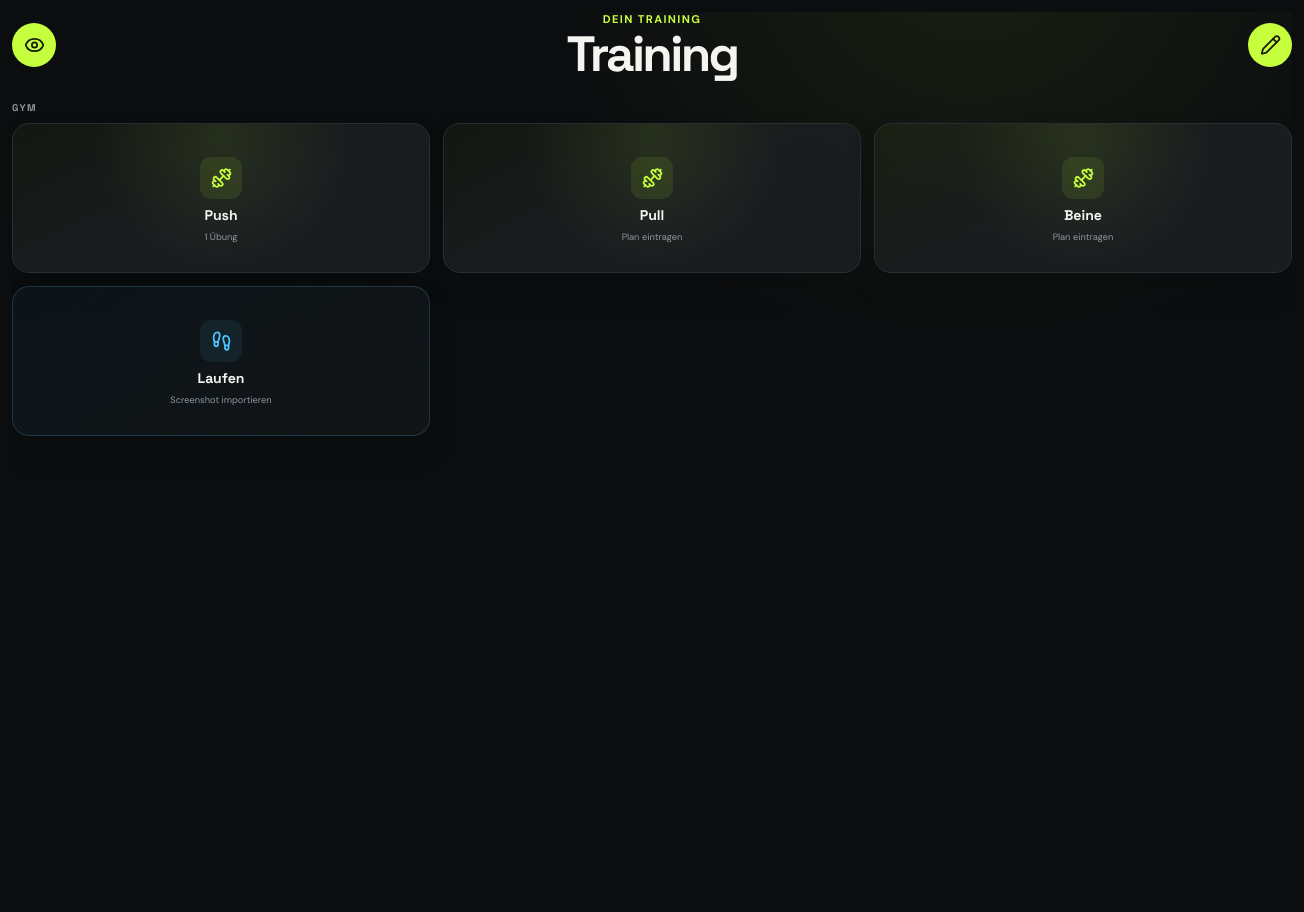
Test: GYM-Workflow › gliedert Läufe im gemeinsamen Verlauf nach Jahr, Monat und KW und klappt Details auf
Click the button named "Trainingsverlauf öffnen" at (34, 45), box x1=12 y1=23 x2=56 y2=67
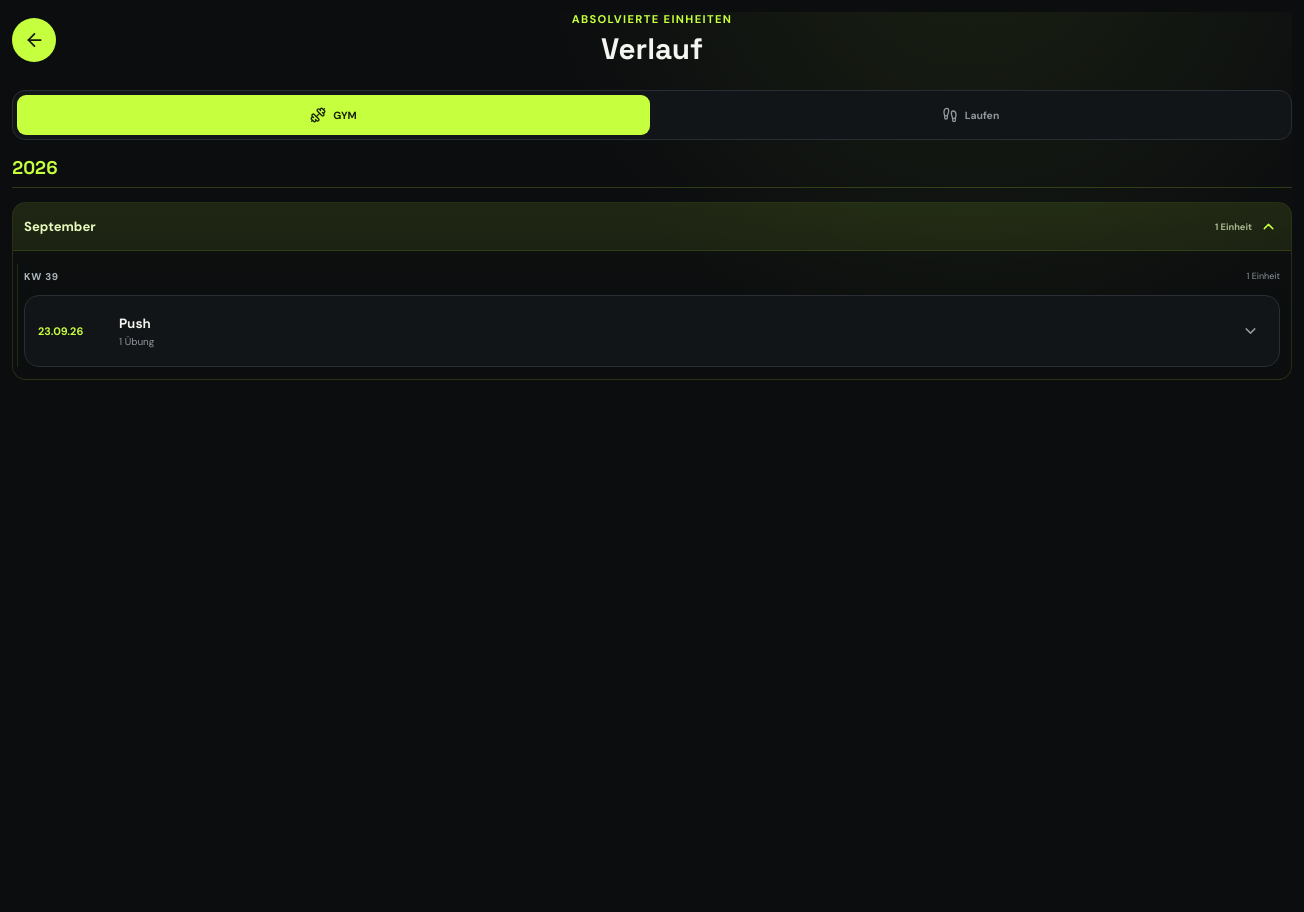
Click the button "Laufen" at (970, 115), box x1=654 y1=95 x2=1287 y2=135
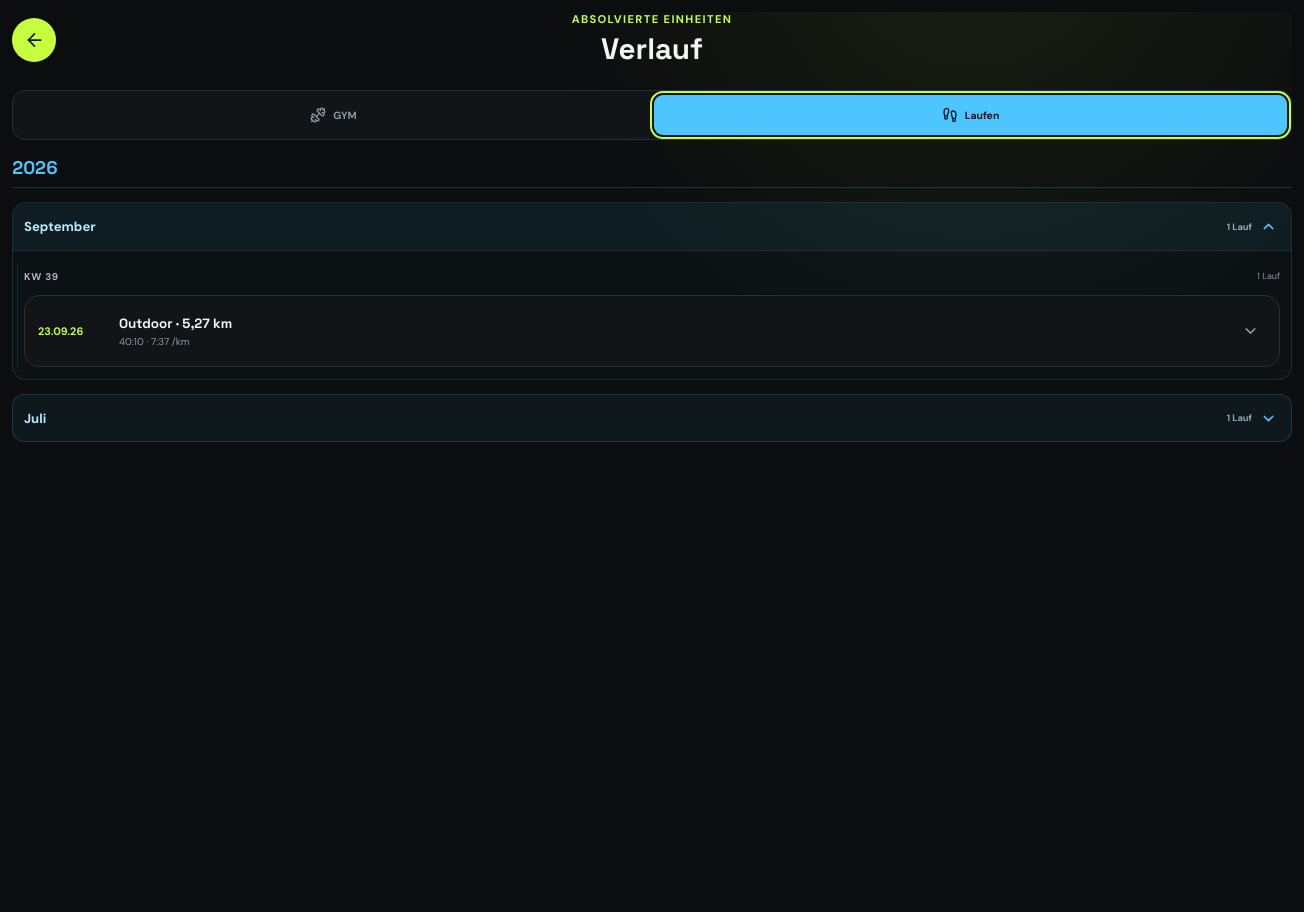
Expected: the button "Push" is gone
Click the button "23.09.26 Outdoor · 5,27 km 40:10 · 7:37 /km" at (61, 331), box x1=25 y1=296 x2=1279 y2=366
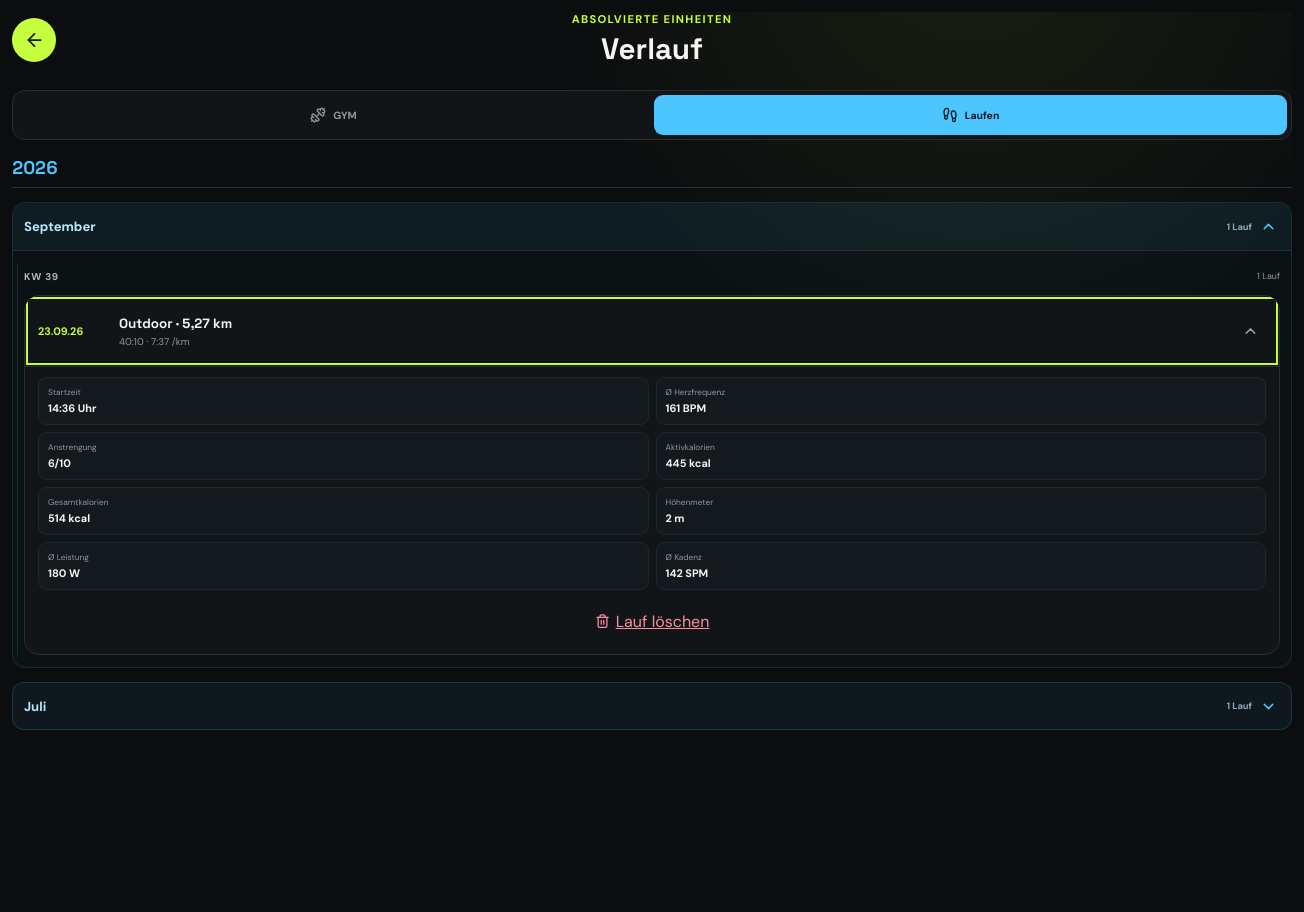
Expected: the text "14:36 Uhr" is shown, x1=48 y1=401 x2=96 y2=415
Expected: the text "161 BPM" is shown, x1=666 y1=401 x2=706 y2=415
Expected: the text "6/10" is shown, x1=48 y1=456 x2=71 y2=470
